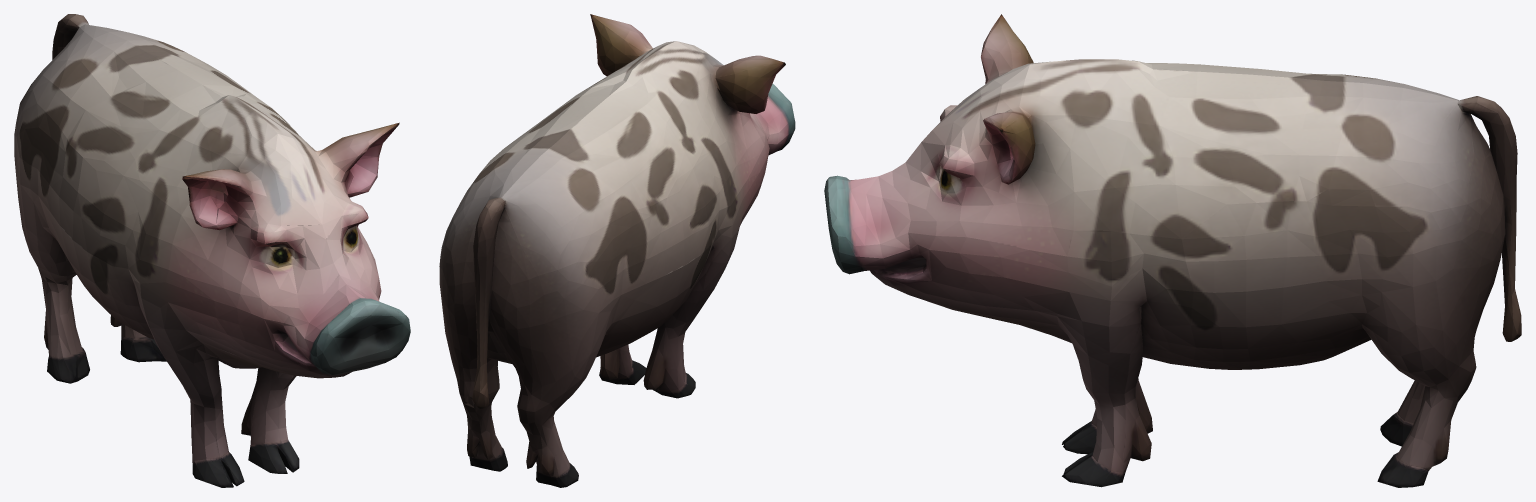
File: pig.glb
3 renders of one model, left to right at view 1: azimuth 30°, elevation 25°; view 2: azimuth 150°, elevation 25°; view 3: azimuth 270°, elevation 25°, orthographic. The views are drawn at different scales.
Parts seen in each view (by area): view 1: world; view 2: world; view 3: world.
Part boxes in pixels (x1,y1,x2,y2): world: [14, 14, 410, 487]; world: [439, 14, 795, 487]; world: [824, 14, 1521, 487].
Size of the model in its own units: 0.4 by 0.6369 by 1.
Materials: 1 (1 with a texture image).
